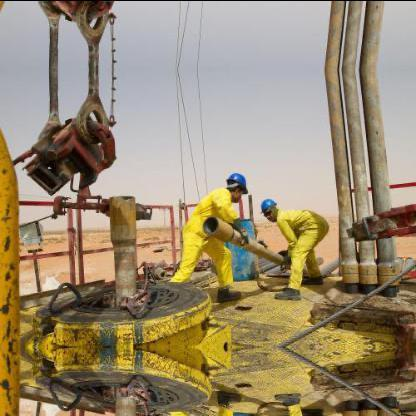Helmet: (223, 169, 247, 201), (258, 194, 276, 219)
